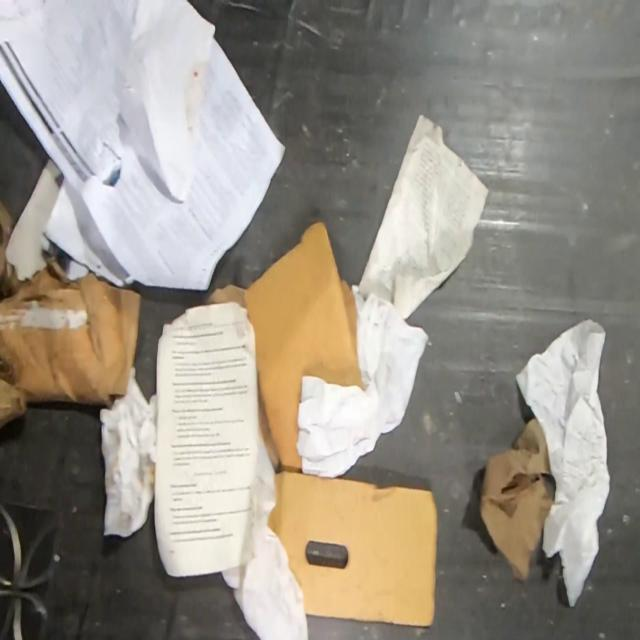cardboard: (204, 217, 363, 471), (0, 192, 142, 427), (266, 471, 436, 626)
metal: (0, 496, 66, 640)
